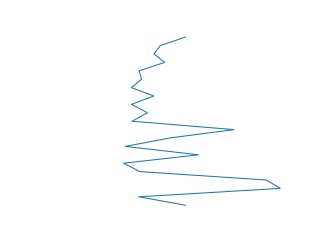crevasseRiverBedLagDeposit: (119, 33, 286, 211)
